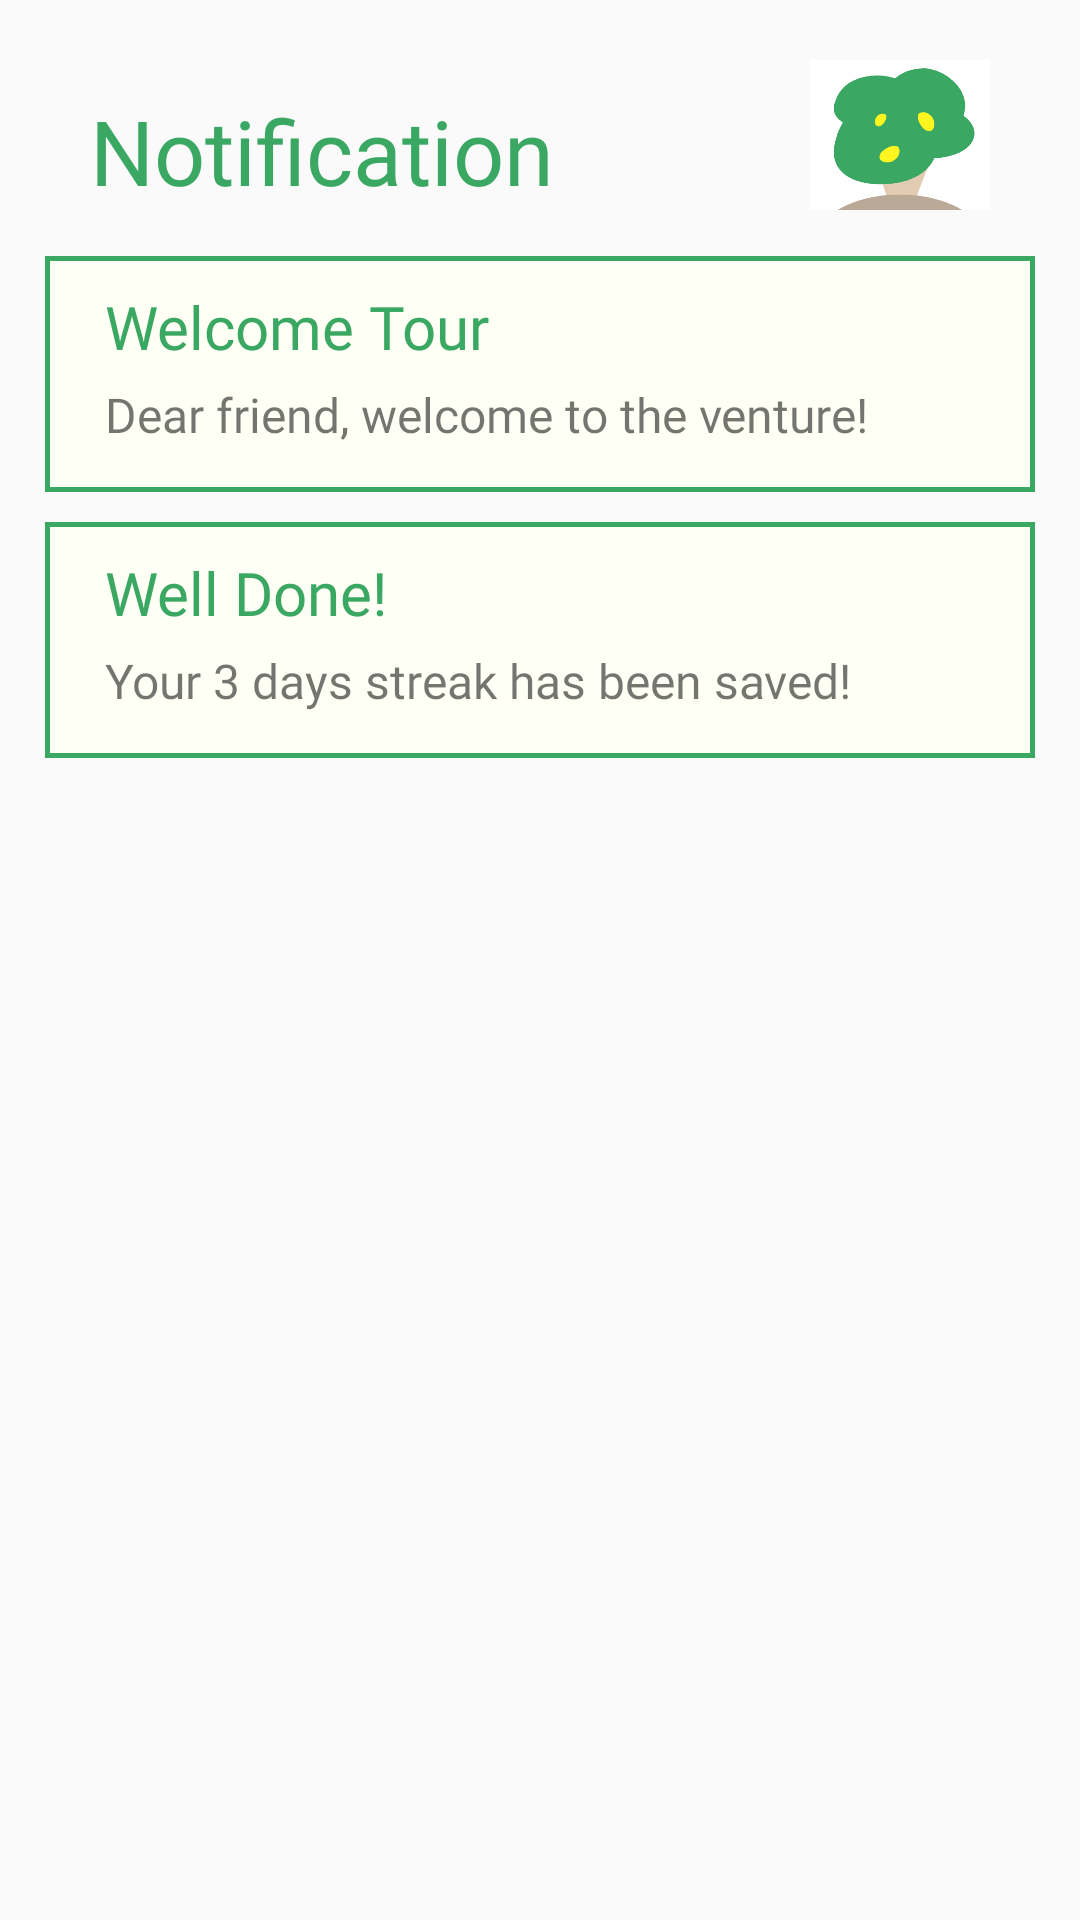

Icons on this 1080 x 1920 Android screen, each with its box as (x1, y1, x2, y2):
moneytree: (834, 68, 975, 210)
